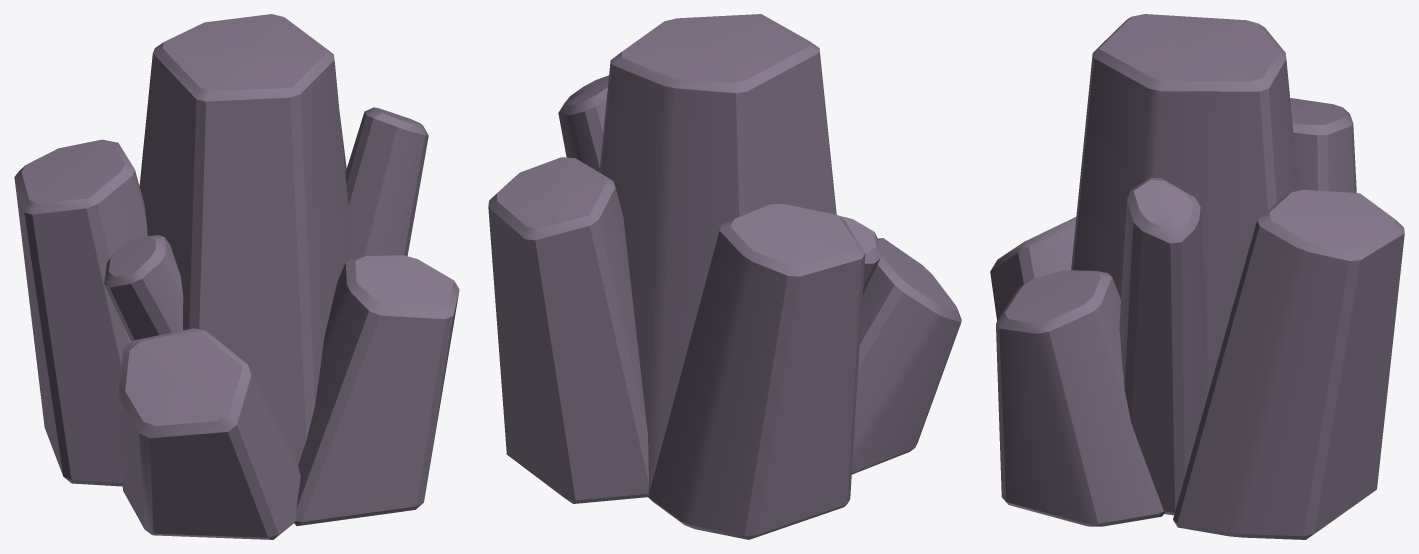
Rendered from crystal_cluster.glb.
The picture shows the model from 3 angles, left to right: view 1: azimuth 30°, elevation 25°; view 2: azimuth 150°, elevation 25°; view 3: azimuth 270°, elevation 25°; orthographic projection. The views are drawn at different scales.
Parts seen in each view (by area): view 1: Crystal_Big; view 2: Crystal_Big; view 3: Crystal_Big.
Part boxes in pixels (x1=…): Crystal_Big: x1=14, y1=14, x2=459, y2=539; Crystal_Big: x1=488, y1=14, x2=961, y2=539; Crystal_Big: x1=990, y1=14, x2=1404, y2=539.
Bounding box in the file's own units: 1.25 × 1.4 × 1.25.
Materials: 1 (1 with a texture image).
